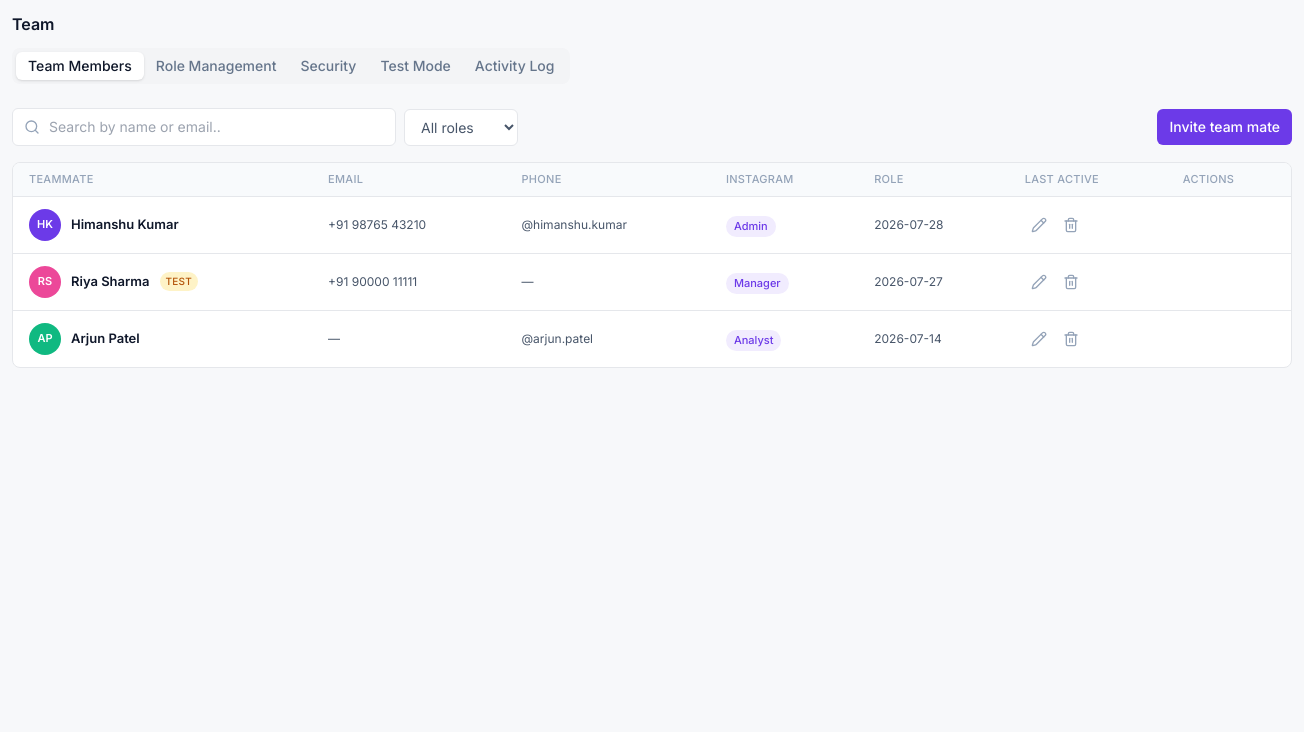
Test: TeamManagementPanel › switches to the Role Management tab
Press the mouse on the tab with test id "team-tab-roles": [216, 66] box top-left (144, 52), bottom-right (288, 80)
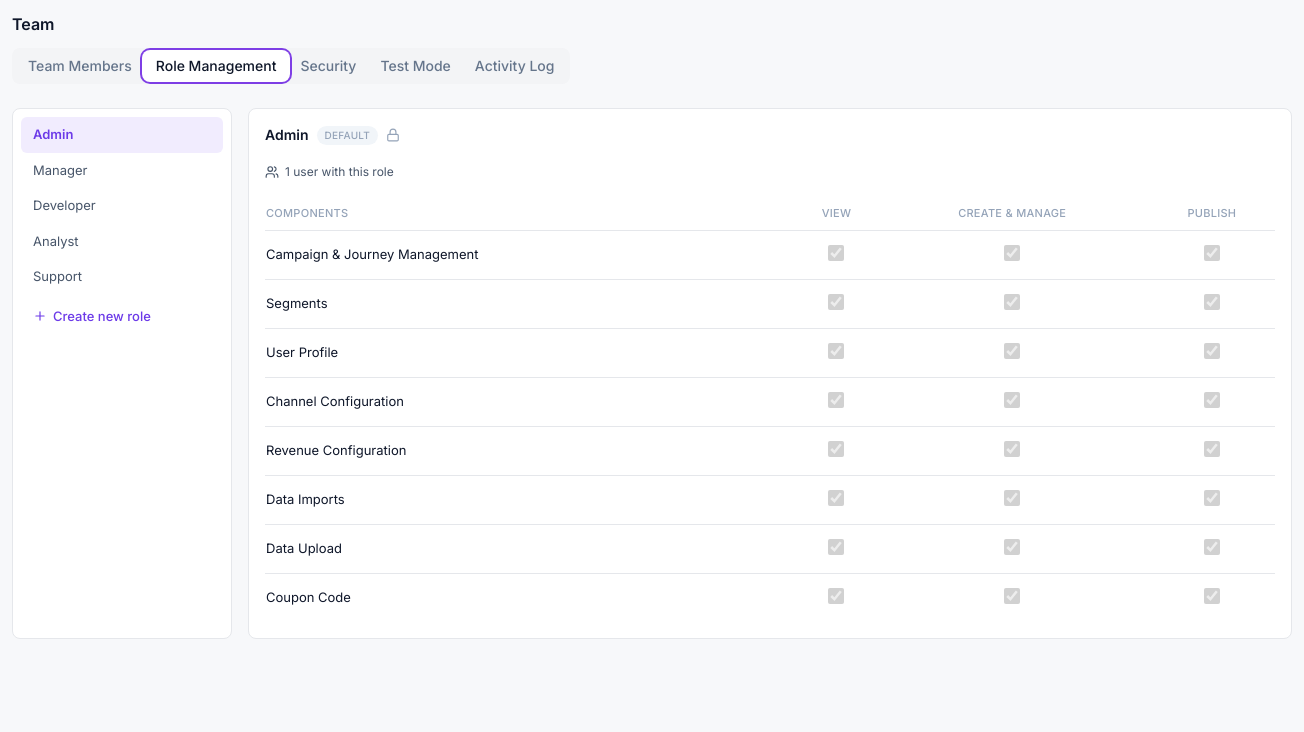
Expected: the element with test id "team-roles-tab" is shown
